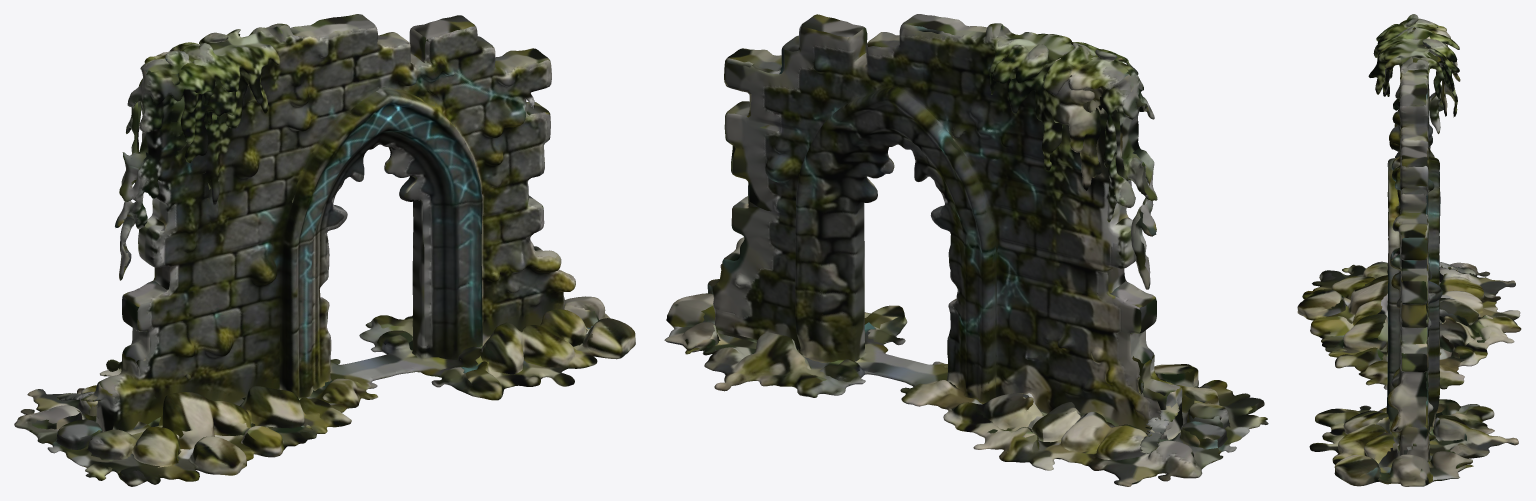
The model's file is ruin_walls.glb.
3 renders of one model, left to right at view 1: azimuth 30°, elevation 25°; view 2: azimuth 150°, elevation 25°; view 3: azimuth 270°, elevation 25°, orthographic. The views are drawn at different scales.
Visible parts, largest first — view 1: geometry_0; view 2: geometry_0; view 3: geometry_0.
Boxes of the visible parts, x1,y1,x2,y2 form: geometry_0: (14,14,635,486); geometry_0: (664,14,1268,486); geometry_0: (1297,14,1521,486).
Bounding box in the file's own units: 1.99 × 1.26 × 0.8465.
1 material, 1 textured.
